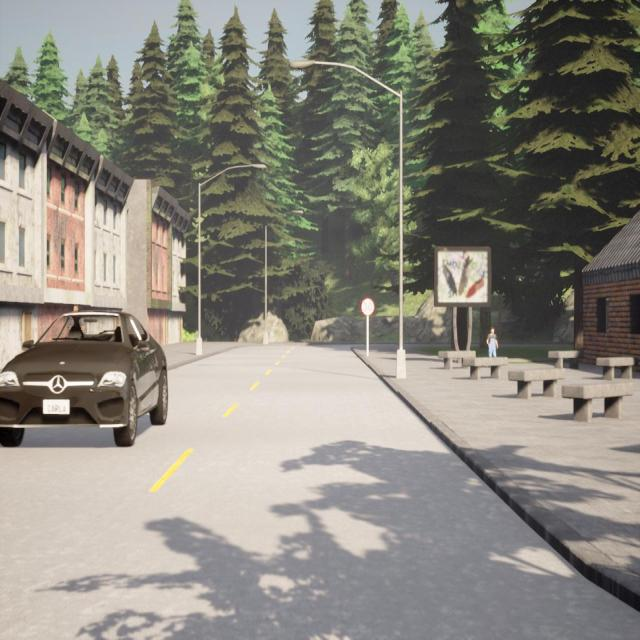Pedestrian: (486, 327, 498, 357)
Traffic_Signs: (359, 298, 376, 315)
Vehicle: (0, 310, 168, 446)
